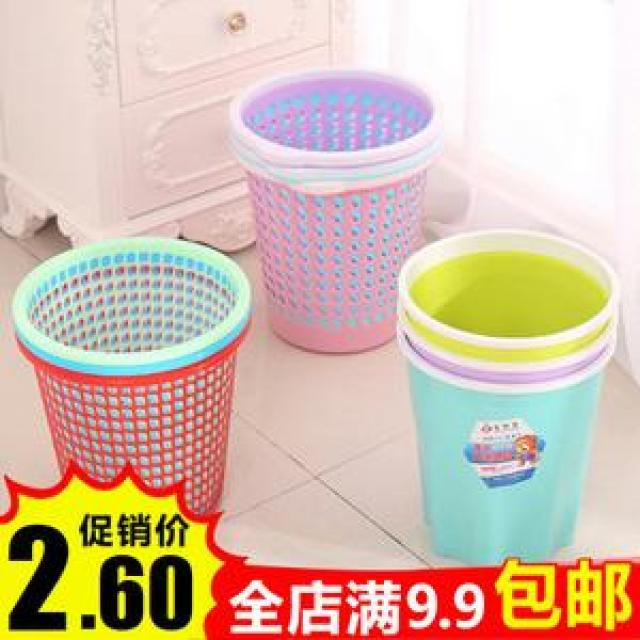dustbin: (392, 220, 625, 563), (8, 232, 255, 520), (223, 59, 444, 360)
